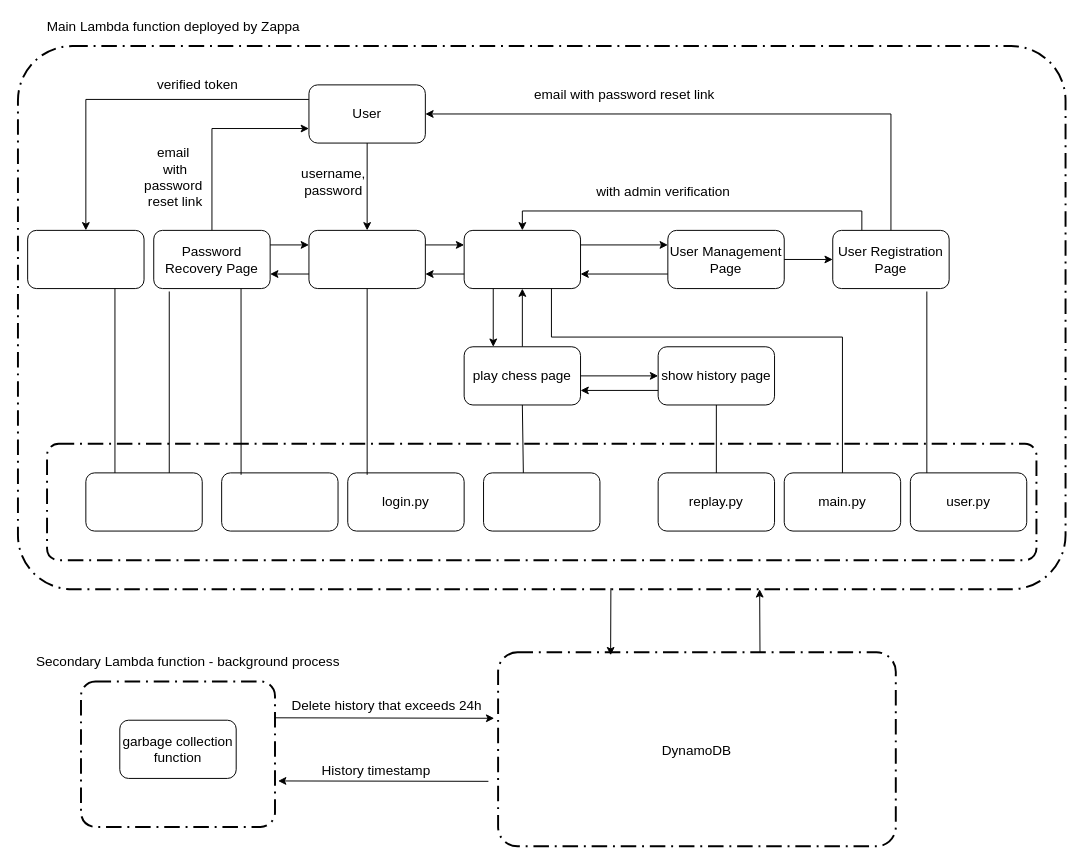
The diagram is 1083 pixels wide and 863 high, and some of its shapes have lost their labels. Each missing label, with the centre of its shape:
chess.py: (541,501)
email.py: (279,501)
Login Page: (366,259)
Main Page: (522,259)
Password Reset Page: (85,259)
password.py: (143,501)
